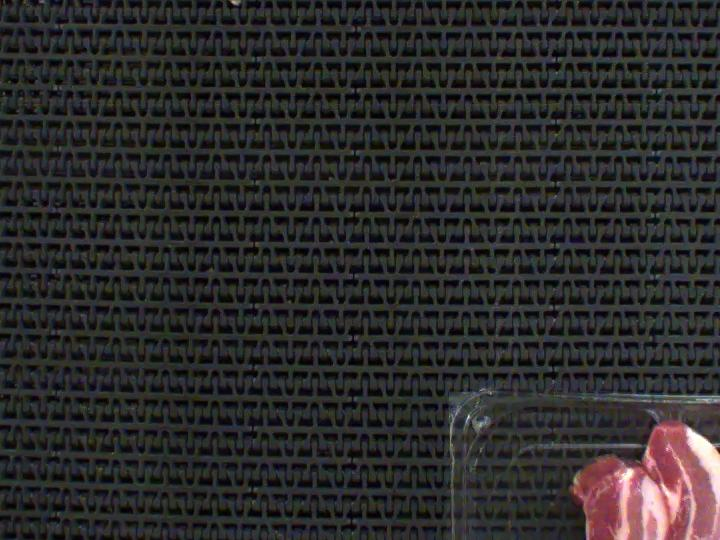packaging-error: (647, 402, 691, 434)
